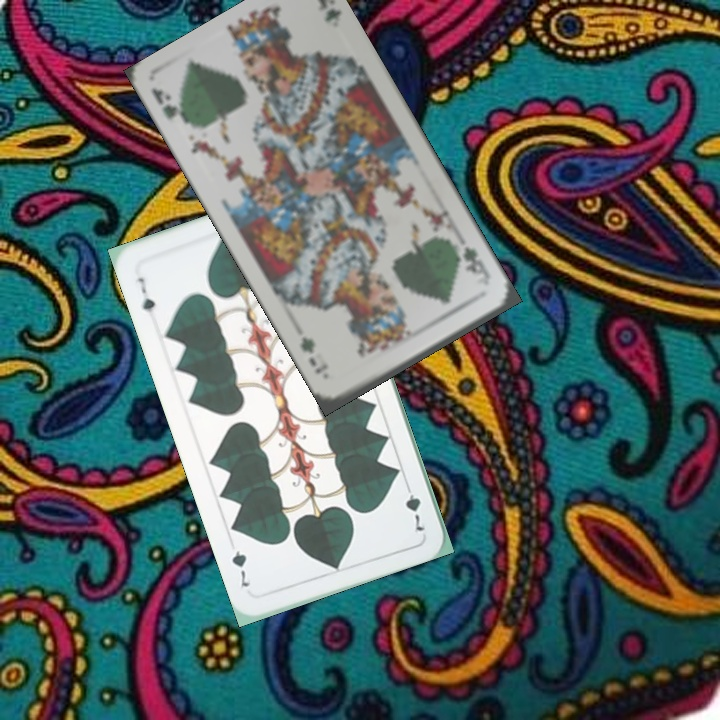G7: (401, 478, 428, 534), (133, 273, 158, 315)
GK: (147, 83, 194, 128), (459, 242, 492, 285)
